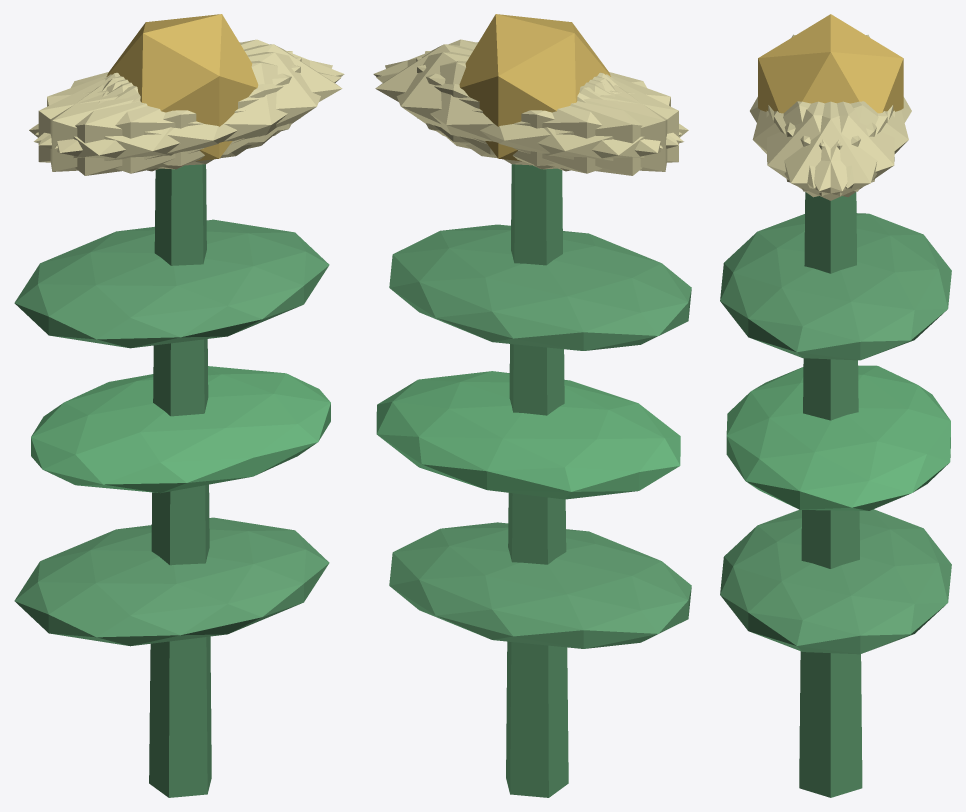
Rendered from eleutheranthera-ruderalis.glb.
3 renders of one model, left to right at view 1: azimuth 30°, elevation 25°; view 2: azimuth 150°, elevation 25°; view 3: azimuth 270°, elevation 25°, orthographic.
Visible parts, largest first — view 1: leaf2, leaf0, leaf1, stem, center, petal1, petal6, petal2, petal5, petal7, petal0, petal4 (+2 smaller); view 2: leaf1, leaf2, leaf0, stem, center, petal8, petal3, petal7, petal4, petal2, petal0, petal5 (+2 smaller); view 3: leaf2, leaf1, leaf0, stem, center, petal0, petal5, petal4, petal8, petal1.
Part boxes in pixels (left/top/right/bottom): leaf2: left=14, top=219, right=329, bottom=348; leaf0: left=14, top=517, right=329, bottom=646; leaf1: left=31, top=366, right=330, bottom=493; stem: left=149, top=164, right=211, bottom=797; center: left=106, top=14, right=258, bottom=161; petal1: left=34, top=60, right=341, bottom=173; petal6: left=29, top=74, right=251, bottom=175; petal2: left=50, top=51, right=292, bottom=171; petal5: left=54, top=52, right=332, bottom=165; petal7: left=38, top=57, right=301, bottom=169; petal0: left=106, top=44, right=342, bottom=155; petal4: left=35, top=39, right=344, bottom=145; leaf1: left=376, top=371, right=680, bottom=499; leaf2: left=389, top=224, right=691, bottom=350; leaf0: left=389, top=522, right=691, bottom=648; stem: left=506, top=164, right=568, bottom=797; center: left=459, top=14, right=610, bottom=161; petal8: left=376, top=60, right=683, bottom=173; petal3: left=466, top=74, right=688, bottom=175; petal7: left=425, top=51, right=667, bottom=171; petal4: left=385, top=52, right=662, bottom=165; petal2: left=416, top=57, right=678, bottom=169; petal0: left=375, top=44, right=611, bottom=155; petal5: left=373, top=39, right=682, bottom=145; leaf2: left=720, top=213, right=951, bottom=360; leaf1: left=726, top=365, right=950, bottom=510; leaf0: left=720, top=509, right=951, bottom=654; stem: left=799, top=192, right=862, bottom=797; center: left=758, top=14, right=903, bottom=113; petal0: left=768, top=101, right=893, bottom=200; petal5: left=766, top=101, right=887, bottom=197; petal4: left=774, top=101, right=894, bottom=197; petal8: left=784, top=101, right=908, bottom=188; petal1: left=752, top=101, right=876, bottom=188.
Bounding box in the file's own units: 0.1452 × 0.3488 × 0.0976.
